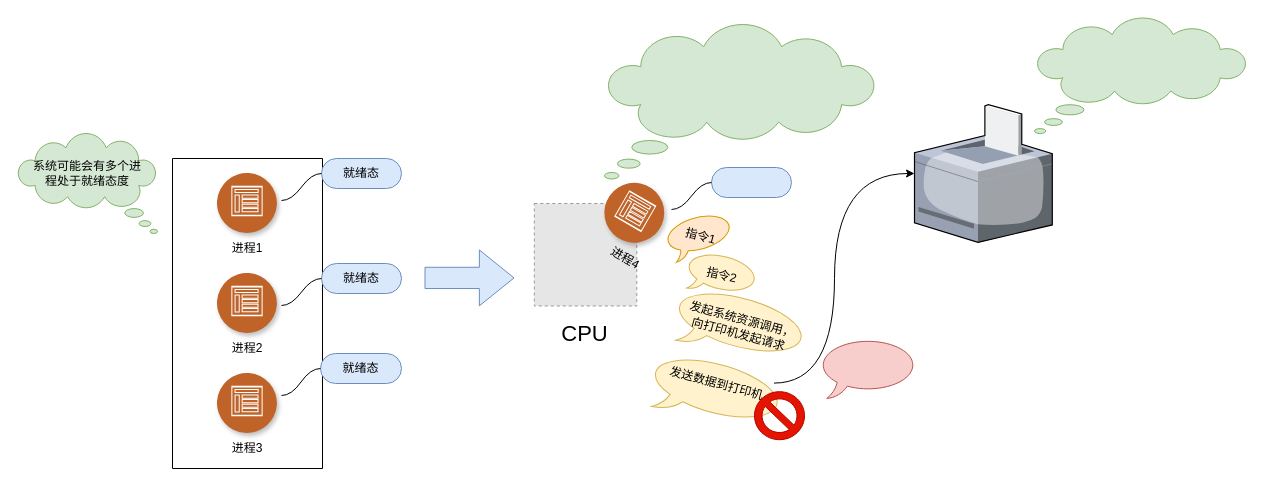
Image size: 1265x487. Some labels were removed from this diagram. Grey dashed boxes stand in for pictures. Here are the shapes that lost their labels. From the top down, the centre of each, then its label:
(1140,75): 老子很忙，正在为其他进程服务
(740,101): 当CPU空闲的时候，操作系统就会选择一个就绪进程，让它上处理机运行
(751,182): 运行态
(868,368): 程序进入阻塞态
